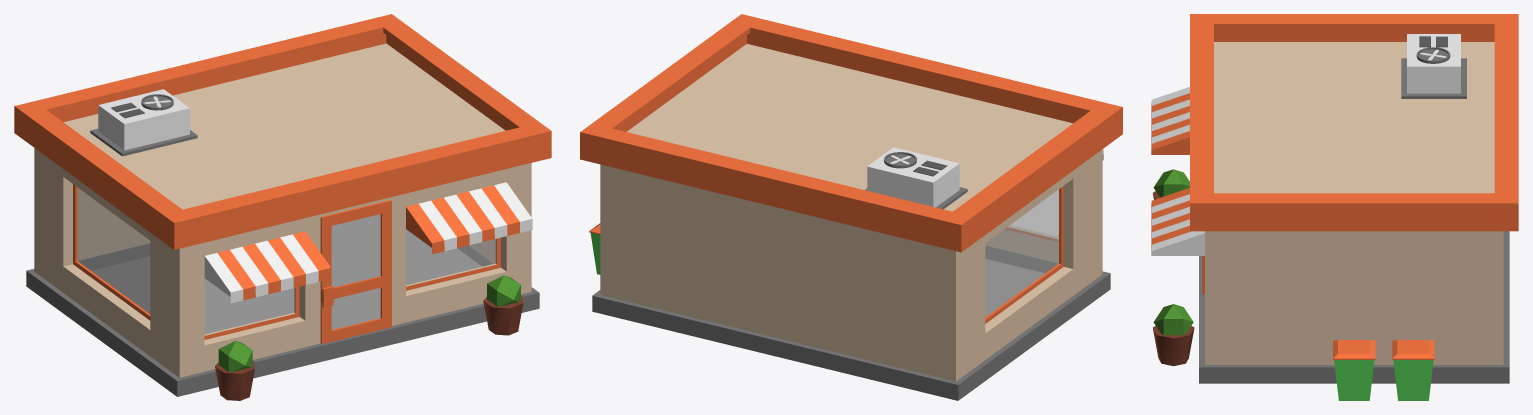
The model's file is store1.glb.
3 renders of one model, left to right at view 1: azimuth 30°, elevation 25°; view 2: azimuth 150°, elevation 25°; view 3: azimuth 270°, elevation 25°, orthographic. The views are drawn at different scales.
Parts seen in each view (by area): view 1: 3DSMeshMatrix (×24); view 2: 3DSMeshMatrix (×2); view 3: 3DSMeshMatrix (×13).
Boxes of the visible parts, bbox=[...] form: 3DSMeshMatrix (×24): bbox=[14, 14, 551, 400]; 3DSMeshMatrix (×2): bbox=[580, 14, 1122, 400]; 3DSMeshMatrix (×13): bbox=[1151, 14, 1518, 400].
Size of the model in its own units: 81.32 by 35.99 by 61.46.
